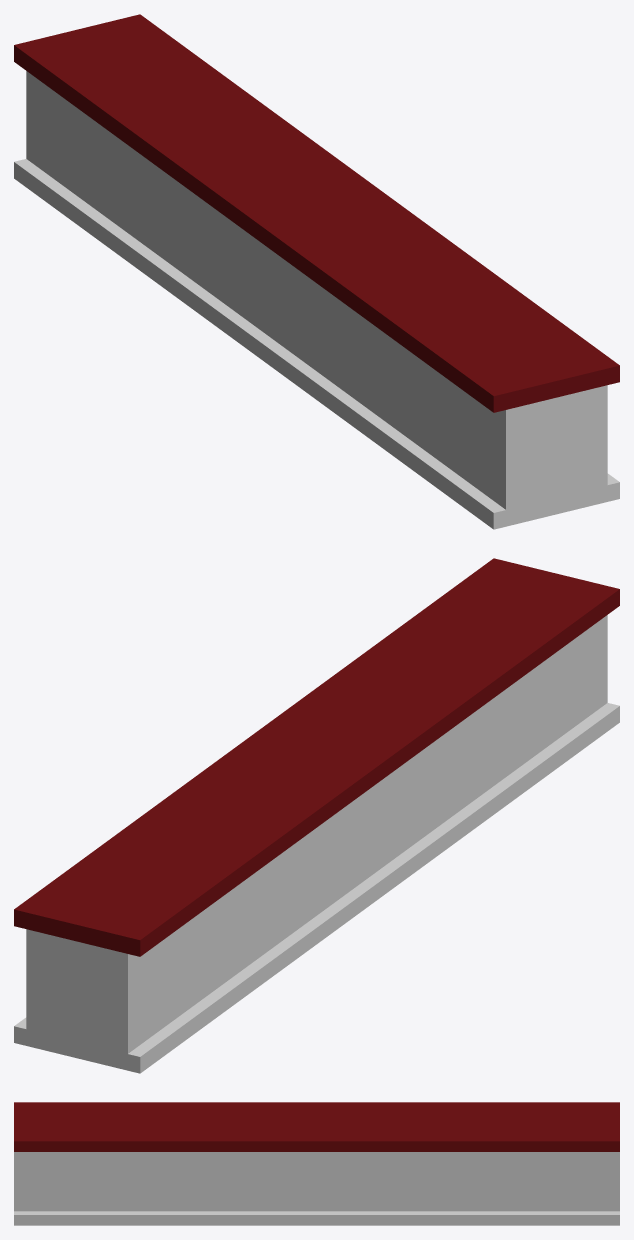
File: oturmaYeri.glb
3 renders of one model, top to bottom at view 1: azimuth 30°, elevation 25°; view 2: azimuth 150°, elevation 25°; view 3: azimuth 270°, elevation 25°, orthographic. The views are drawn at different scales.
Visible parts, largest first — view 1: MOD_GlassWallTop_MAT_GlassWall_0 (13); view 2: MOD_GlassWallTop_MAT_GlassWall_0 (13); view 3: MOD_GlassWallTop_MAT_GlassWall_0 (13).
Part boxes in pixels (x1=…): MOD_GlassWallTop_MAT_GlassWall_0 (13): x1=14, y1=14, x2=619, y2=529; MOD_GlassWallTop_MAT_GlassWall_0 (13): x1=14, y1=558, x2=619, y2=1073; MOD_GlassWallTop_MAT_GlassWall_0 (13): x1=14, y1=1102, x2=619, y2=1225.
Bounding box in the file's own units: 82.27 × 83.13 × 542.
